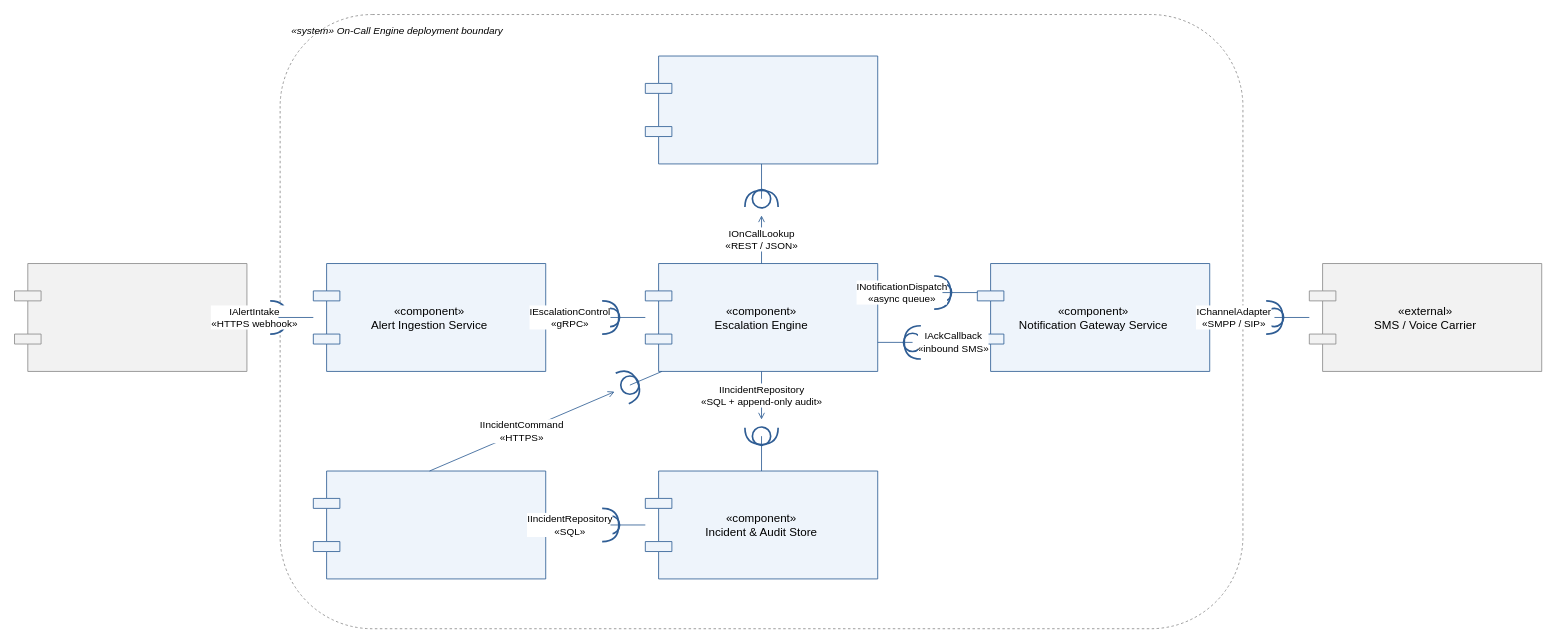
Some shapes in this 1556 by 643 pixel diagram are drawn without their labels. The shapes that lost their labels are listed below. From the top down, each one's centre as x and y in pixels, then its label:
At (x=761, y=109): "«component» Rotation Scheduler Service".
At (x=130, y=317): "«external» Monitoring System".
At (x=429, y=524): "«component» Web Console & Post-Mortem Service".
